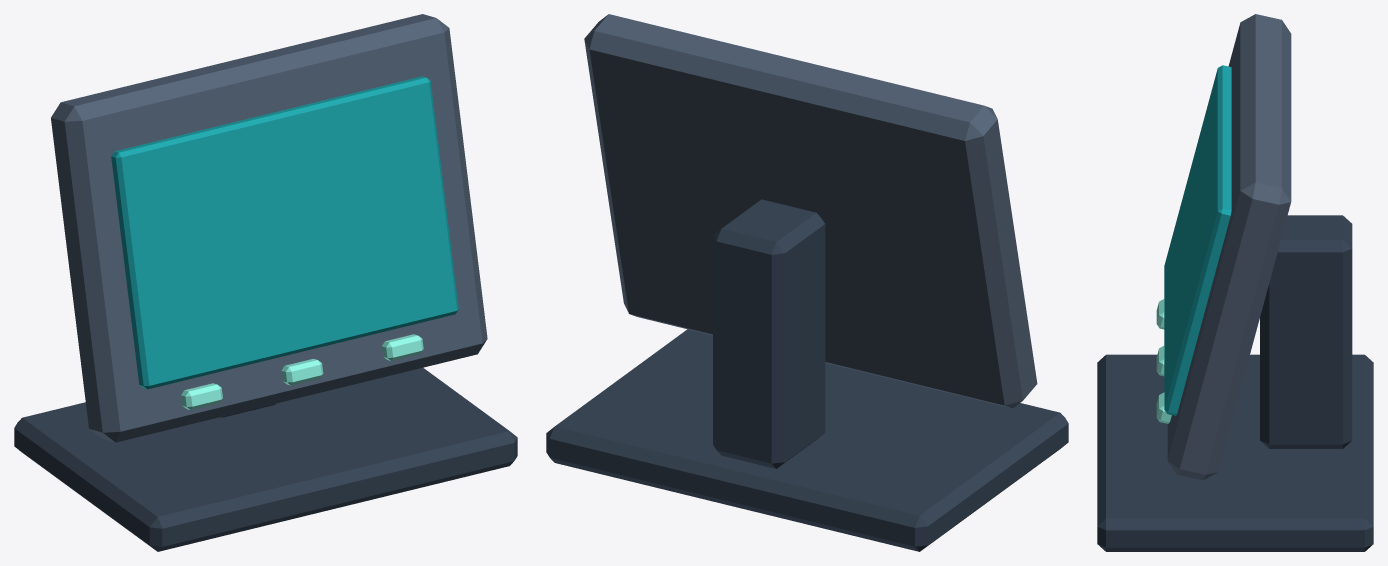
File: 07_Data_Tablet.glb
3 views of the same model, side by side, from view 1: azimuth 30°, elevation 25°; view 2: azimuth 150°, elevation 25°; view 3: azimuth 270°, elevation 25° (orthographic). The views are drawn at different scales.
Parts seen in each view (by area): view 1: 07_Data_Tablet__Body; view 2: 07_Data_Tablet__Body; view 3: 07_Data_Tablet__Body.
Part boxes in pixels (x1,y1,x2,y2): 07_Data_Tablet__Body: (14,14,517,551); 07_Data_Tablet__Body: (546,14,1068,551); 07_Data_Tablet__Body: (1097,14,1373,551).
Bounding box in the file's own units: 1.38 × 1.34 × 0.9.
Materials: 1 (1 with a texture image).
